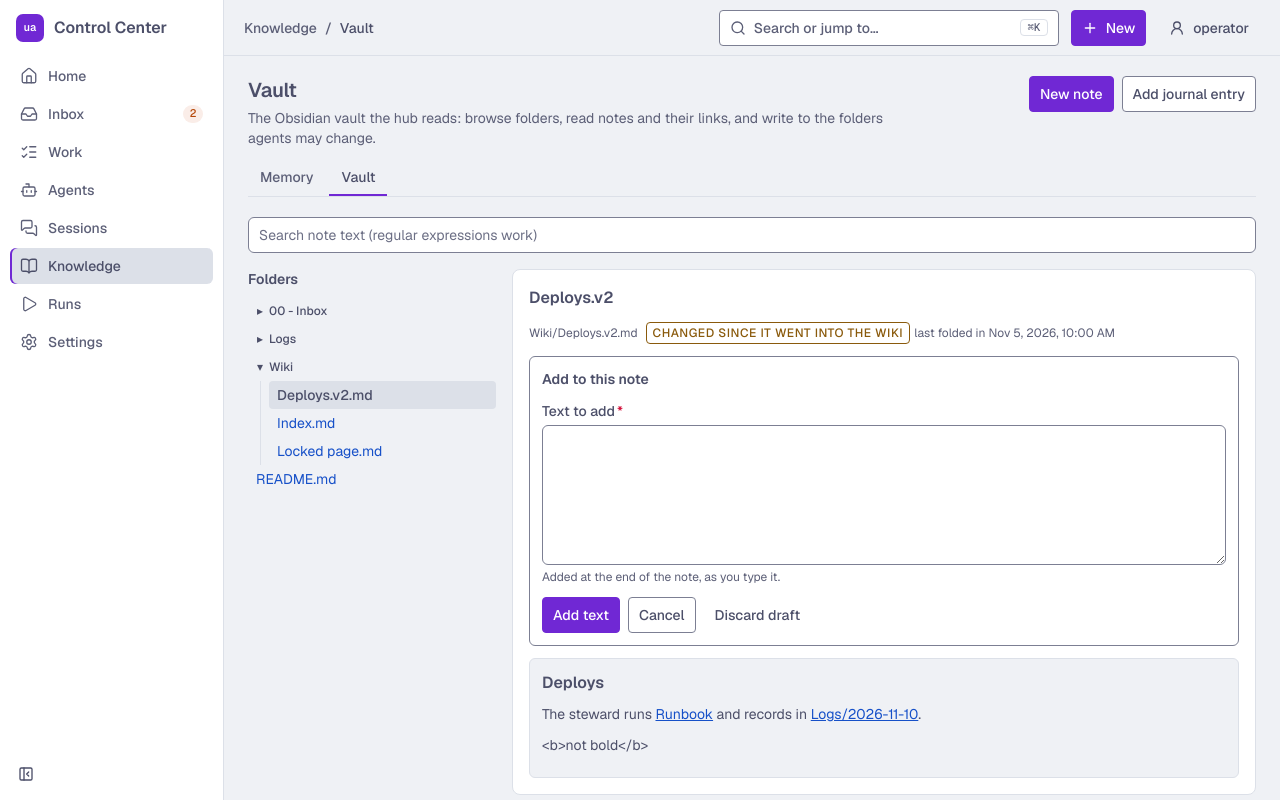
Test case: knowledge: vault writes › an unknown outcome is never guessed (review 1 #3, review 2 #6-8) › append: a refused send is not unknown, and the form stays usable
Expected: the button with aria-label "Account: operator" is shown, [1158,10,1260,46]
Type "- added line" into the text box labelled "Text to add*" at coordinates (884, 495), box [542,425,1226,565]
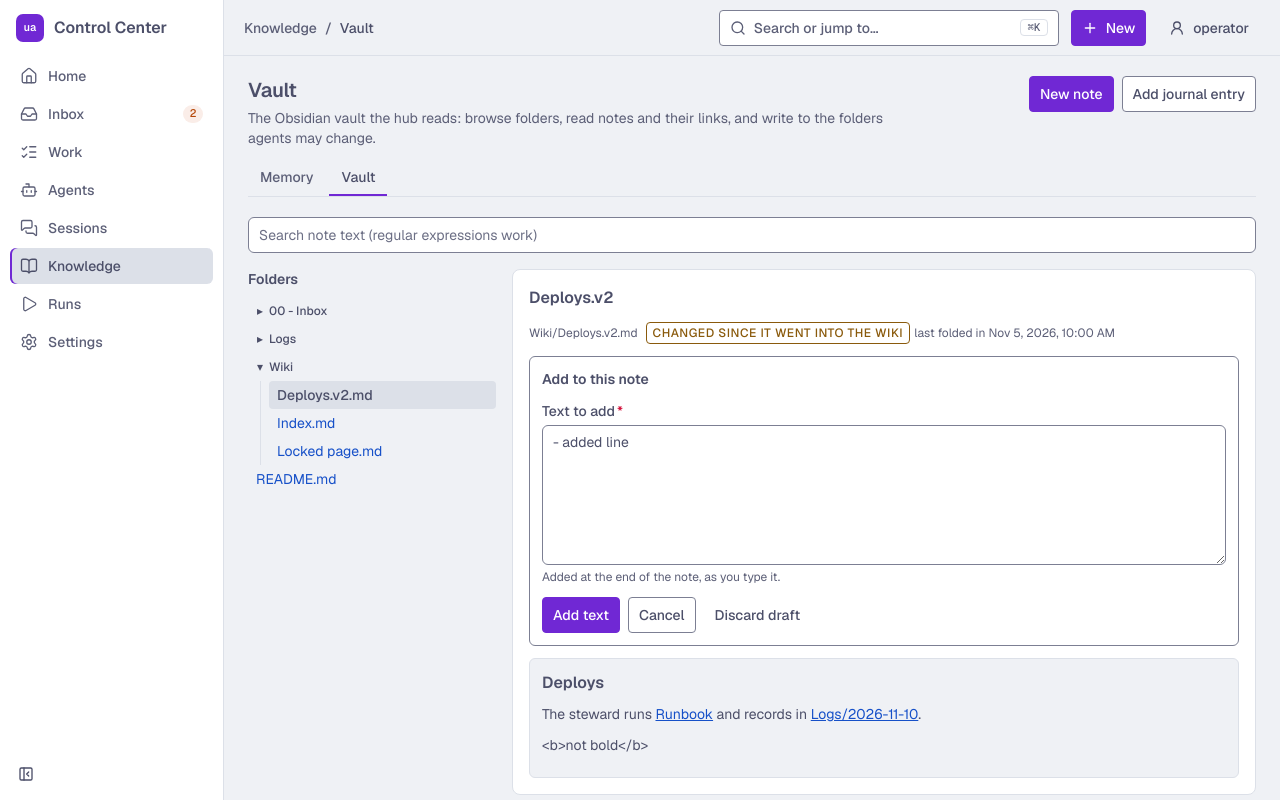
Click the button "Add text" at coordinates (581, 615), box [542,597,620,633]
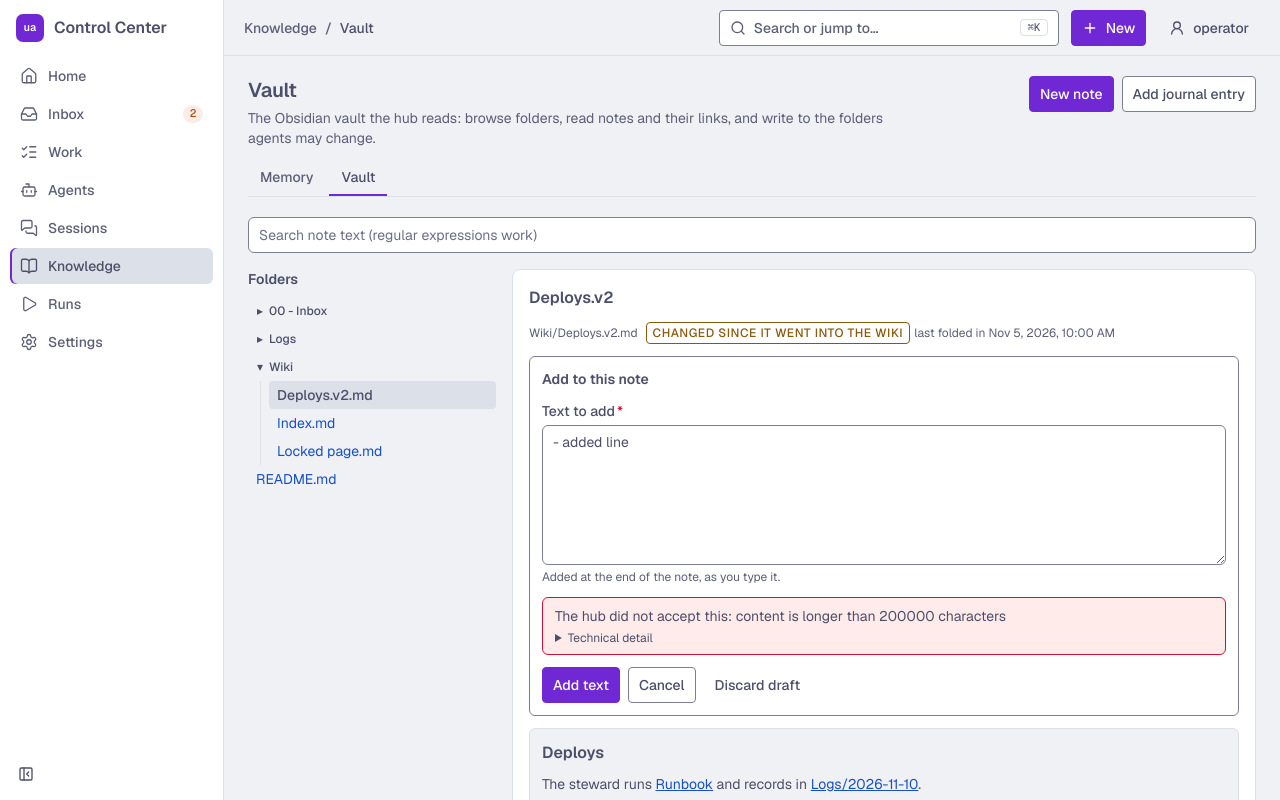
Expected: the button "Add text" is enabled, [542,667,620,703]
Expected: the message is shown, [542,597,1226,655]
